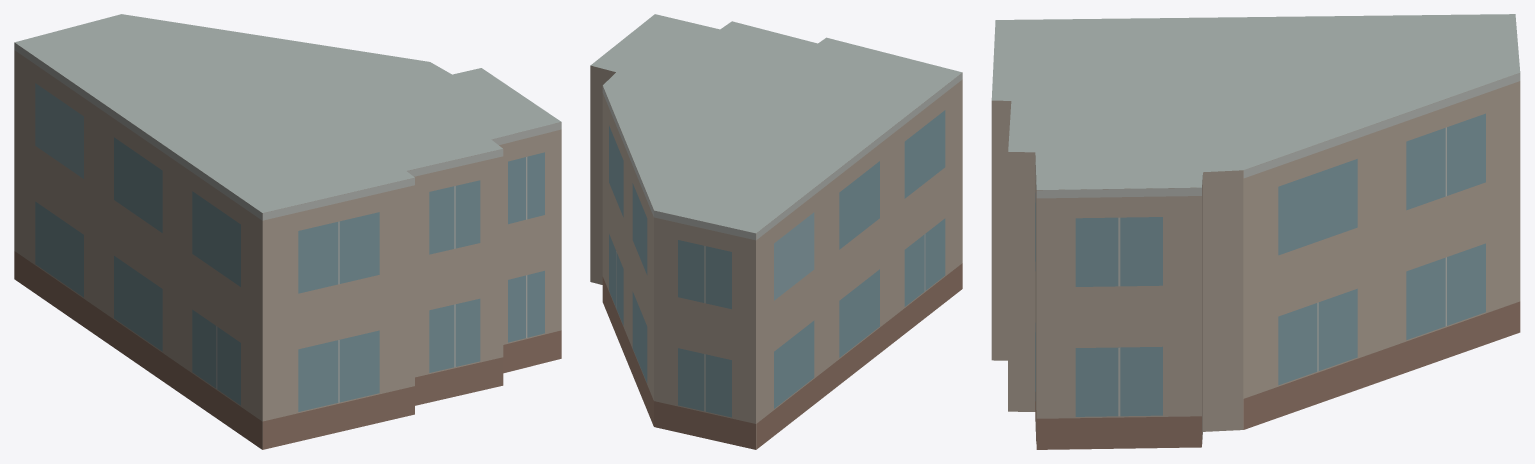
The model's file is survey-upis-32747234.glb.
3 renders of one model, left to right at view 1: azimuth 30°, elevation 25°; view 2: azimuth 150°, elevation 25°; view 3: azimuth 270°, elevation 25°, orthographic. The views are drawn at different scales.
Parts seen in each view (by area): view 1: survey-upis-32747234.tmp; view 2: survey-upis-32747234.tmp; view 3: survey-upis-32747234.tmp.
Boxes of the visible parts, x1,y1,x2,y2 form: survey-upis-32747234.tmp: (14,14,561,449); survey-upis-32747234.tmp: (590,14,962,449); survey-upis-32747234.tmp: (991,14,1520,449).
Bounding box in the file's own units: 11.06 × 7.6 × 14.03.
